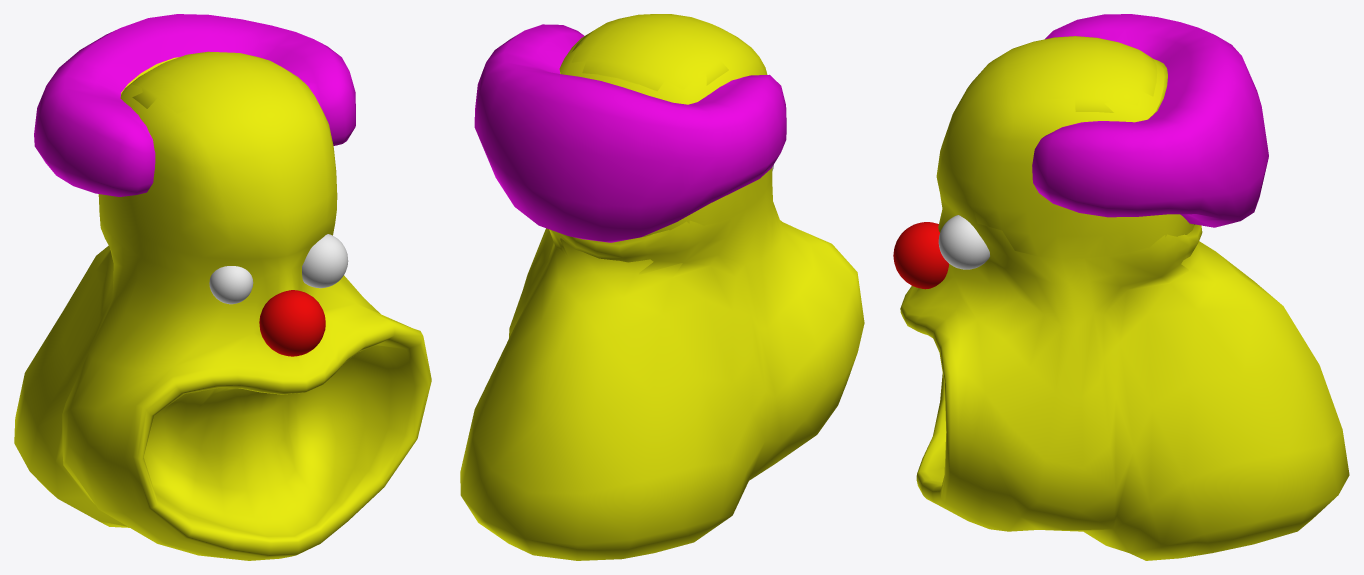
The model's file is Clown.fbx.
3 views of the same model, side by side, from view 1: azimuth 30°, elevation 25°; view 2: azimuth 150°, elevation 25°; view 3: azimuth 270°, elevation 25° (orthographic). The views are drawn at different scales.
Parts seen in each view (by area): view 1: BaseMesh, Sphere.005, Sphere.004, Sphere.003; view 2: BaseMesh; view 3: BaseMesh, Sphere.005, Sphere.004.
Part boxes in pixels (bbox=[...]): BaseMesh: bbox=[14, 14, 431, 560]; Sphere.005: bbox=[259, 290, 325, 356]; Sphere.004: bbox=[302, 234, 348, 288]; Sphere.003: bbox=[209, 266, 253, 304]; BaseMesh: bbox=[460, 14, 864, 560]; BaseMesh: bbox=[900, 14, 1349, 560]; Sphere.005: bbox=[893, 222, 948, 289]; Sphere.004: bbox=[938, 215, 989, 269].
Size of the model in its own units: 199 by 285 by 244.
